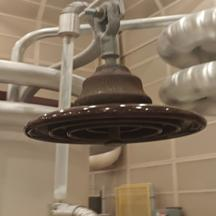insulator: (20, 61, 211, 162)
